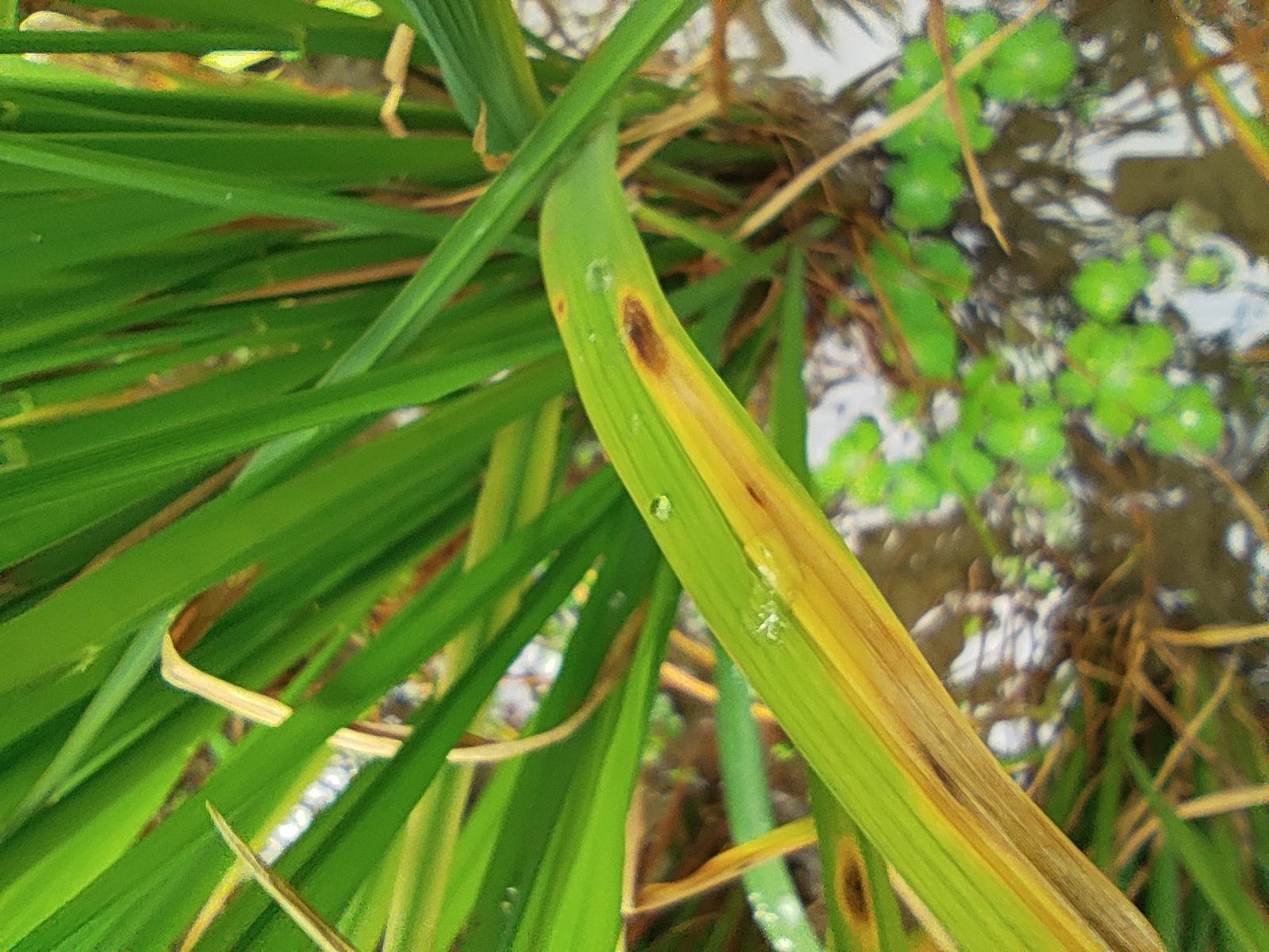LEAF: (0, 406, 1100, 871)
NBS: (195, 694, 263, 720), (591, 558, 624, 572)
